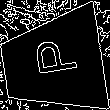P_W: (26, 41, 79, 85)
